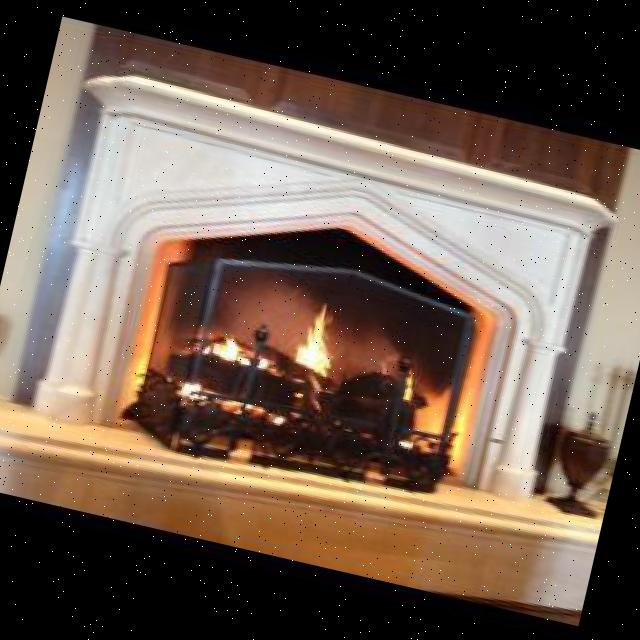fire: (283, 298, 357, 394)
